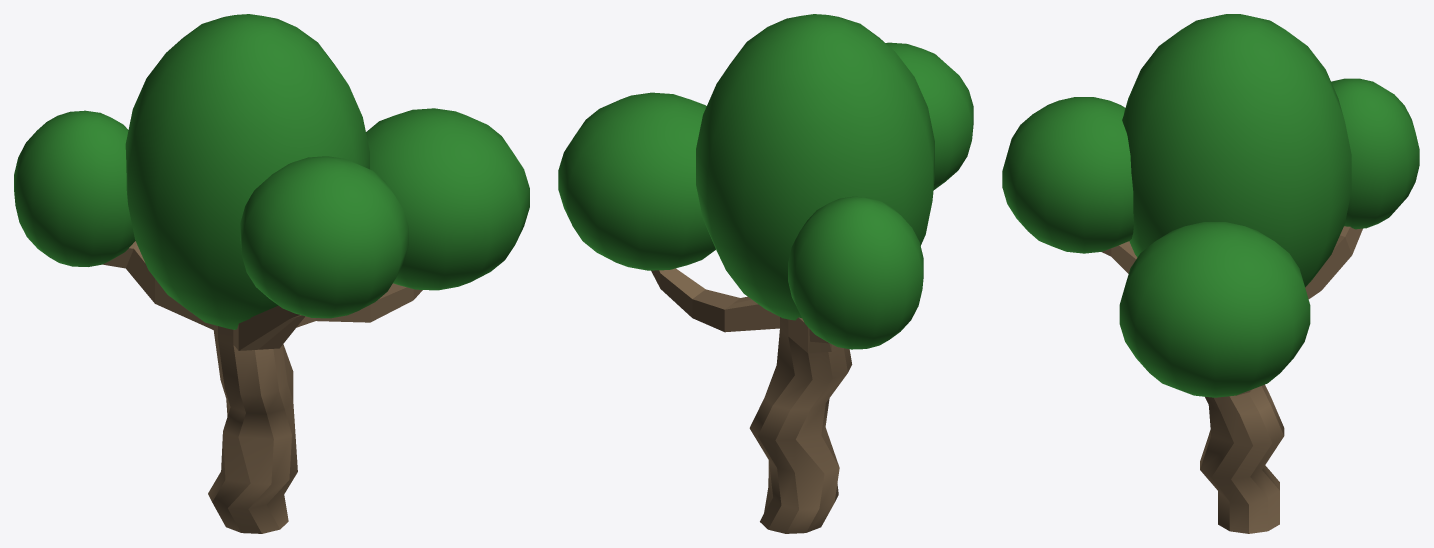
The model's file is tree4.fbx.
3 renders of one model, left to right at view 1: azimuth 30°, elevation 25°; view 2: azimuth 150°, elevation 25°; view 3: azimuth 270°, elevation 25°, orthographic. The views are drawn at different scales.
Parts seen in each view (by area): view 1: tree4; view 2: tree4; view 3: tree4.
Part boxes in pixels (box(x1,y1,x2,y2)): tree4: box(14, 14, 529, 533); tree4: box(558, 14, 973, 533); tree4: box(1002, 14, 1419, 533).
Bounding box in the file's own units: 14.43 × 16.61 × 12.79.
